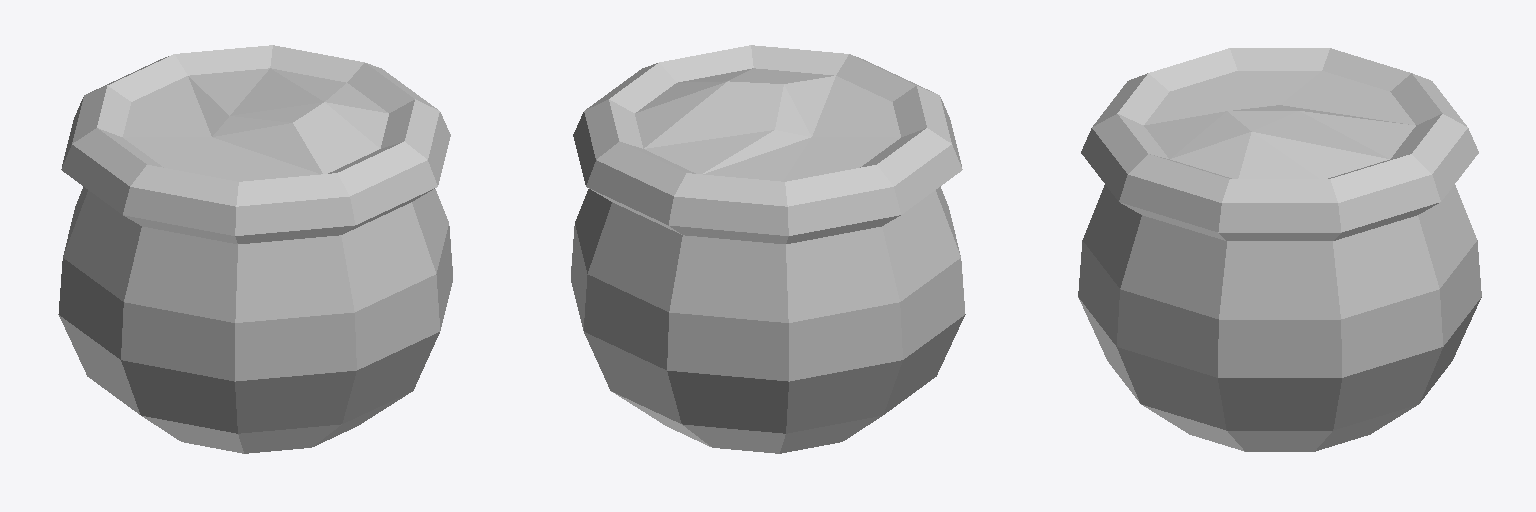
The model's file is sack of gold1.obj.
3 views of the same model, side by side, from view 1: azimuth 30°, elevation 25°; view 2: azimuth 150°, elevation 25°; view 3: azimuth 270°, elevation 25° (orthographic).
Parts seen in each view (by area): view 1: Sphere001; view 2: Sphere001; view 3: Sphere001.
Part boxes in pixels (left/top/right/bottom): Sphere001: left=58, top=45, right=452, bottom=453; Sphere001: left=571, top=45, right=965, bottom=453; Sphere001: left=1078, top=48, right=1481, bottom=451.
Bounding box in the file's own units: 80.96 × 70.24 × 85.13.